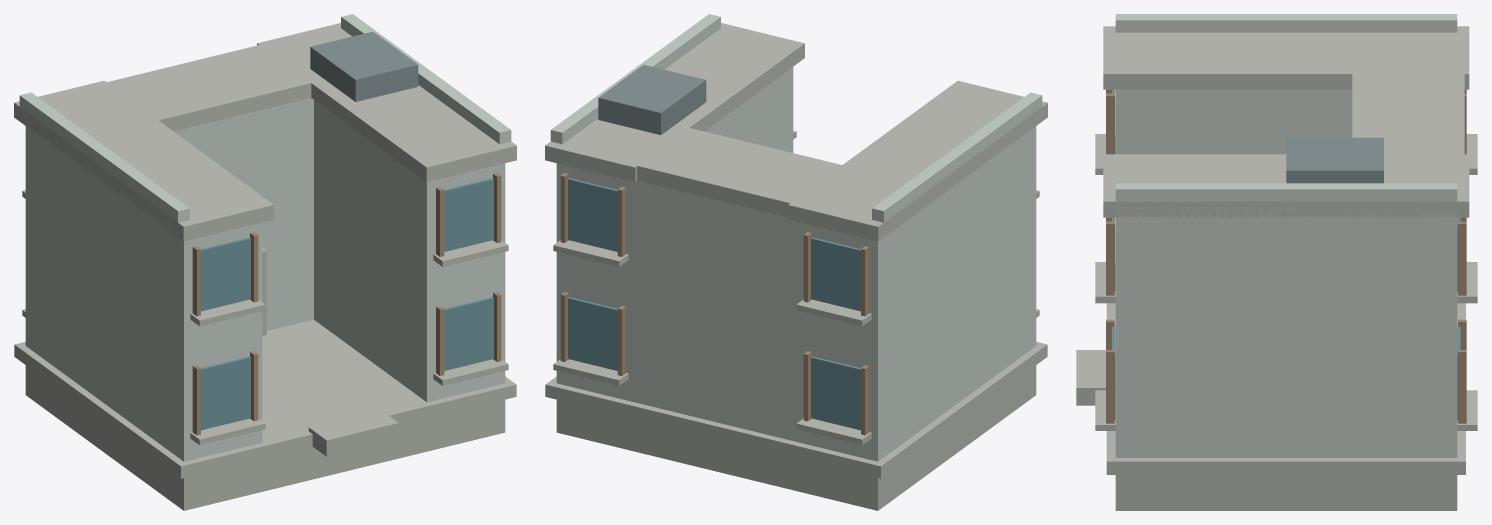
File: courtyard-1.glb
3 renders of one model, left to right at view 1: azimuth 30°, elevation 25°; view 2: azimuth 150°, elevation 25°; view 3: azimuth 270°, elevation 25°, orthographic. The views are drawn at different scales.
Bounding box in the file's own units: 4.28 × 3.8 × 4.11.
